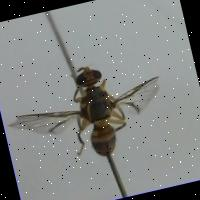Oriental-fruit-fly: (0, 39, 177, 179)
